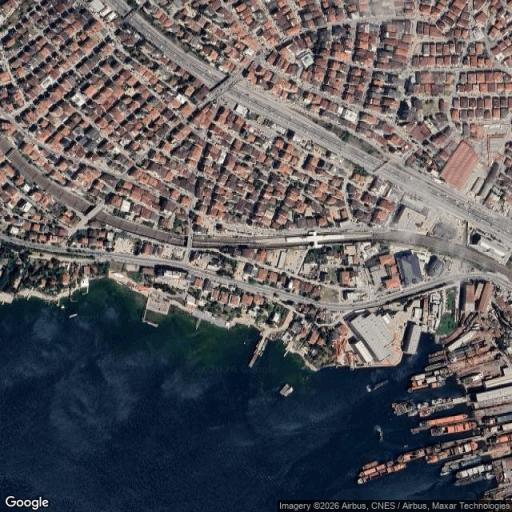ship: (426, 441, 478, 463), (358, 461, 405, 483), (441, 455, 480, 475), (420, 413, 469, 427), (430, 422, 477, 436), (407, 379, 449, 394), (409, 367, 449, 382), (454, 464, 492, 479), (455, 472, 494, 485), (398, 448, 426, 463), (392, 400, 417, 415), (461, 372, 483, 386), (367, 380, 388, 392), (428, 350, 447, 363), (424, 362, 446, 372), (362, 460, 378, 471), (280, 384, 293, 396), (262, 339, 268, 351), (68, 313, 78, 318)
